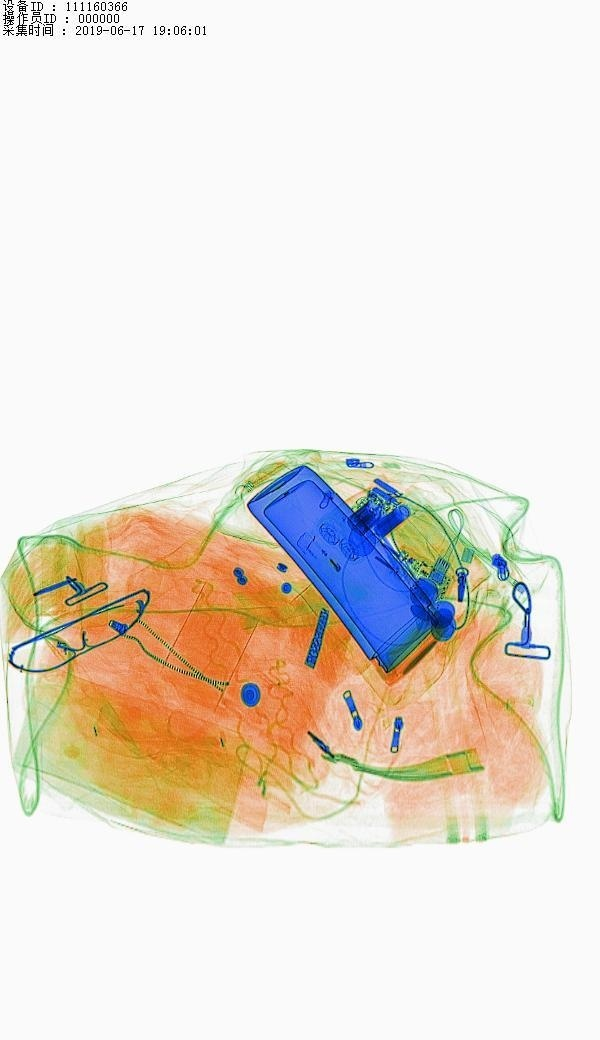NonmetallicFire: (291, 517, 398, 626)
